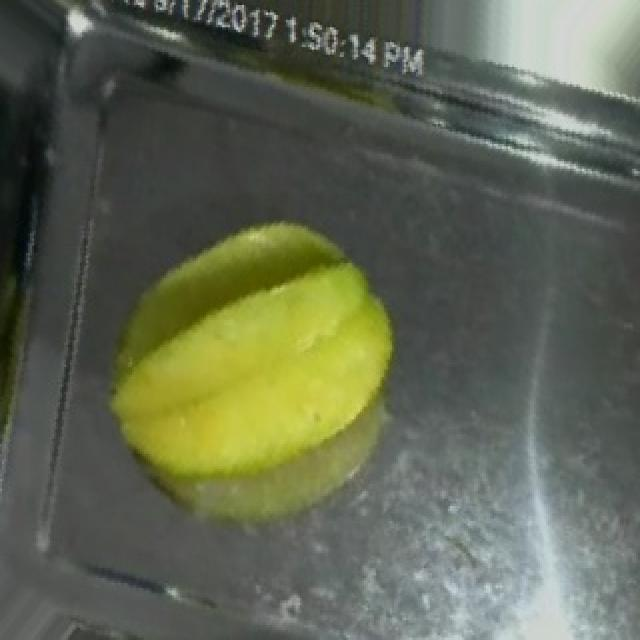fruit: (84, 166, 442, 561)
